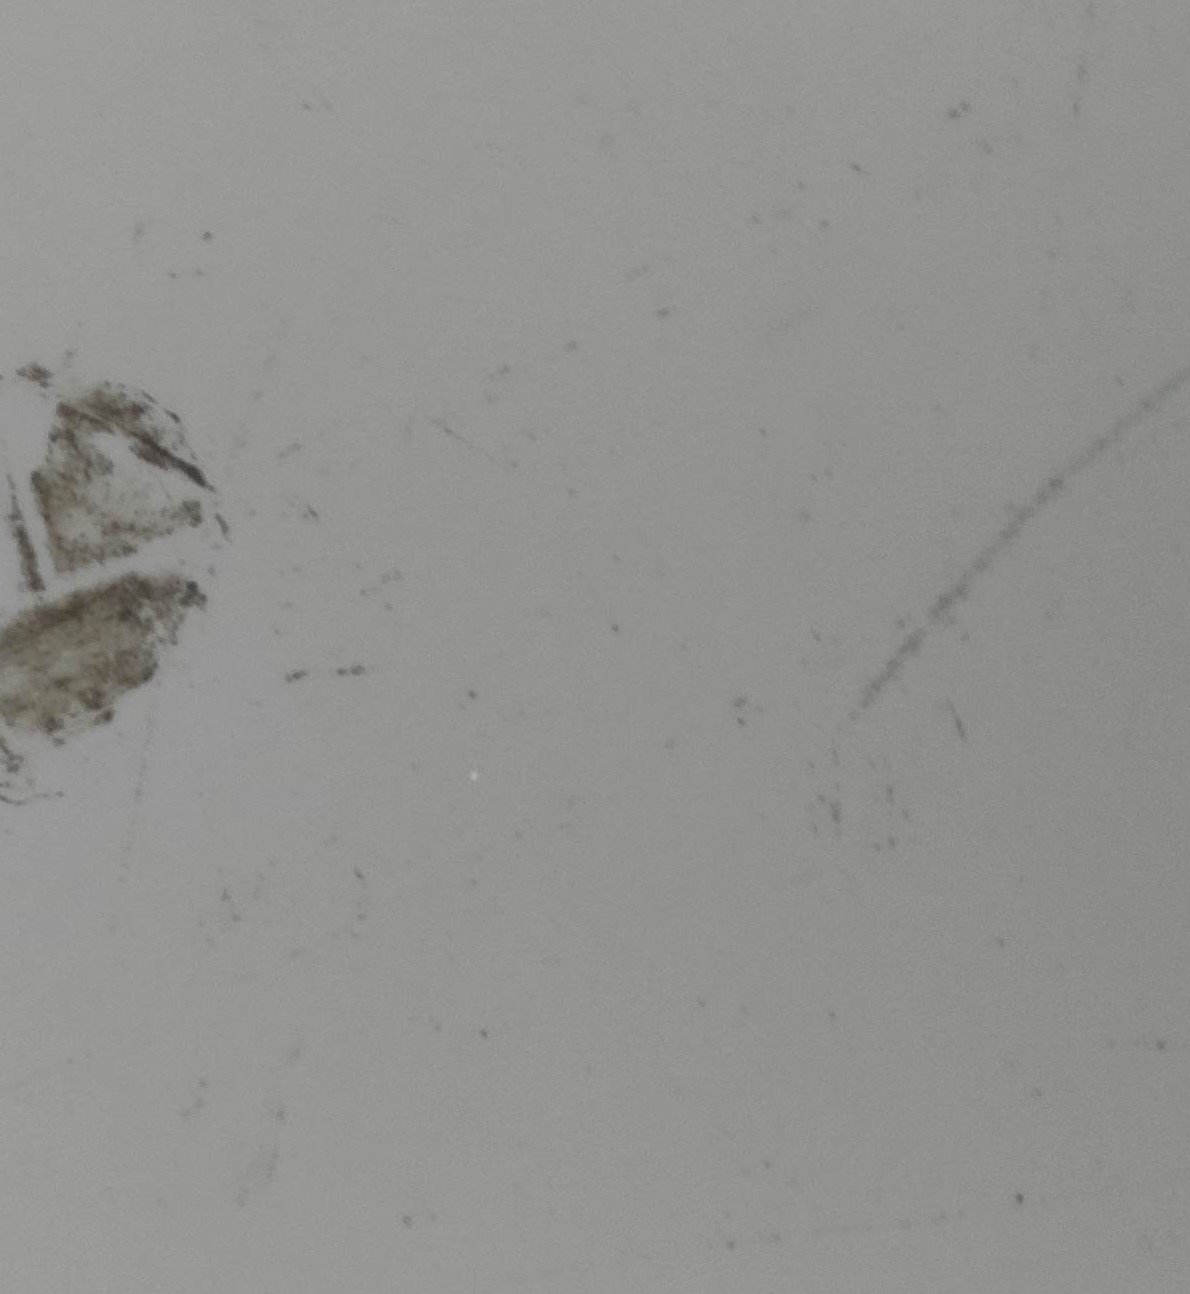grey spot: (1, 356, 215, 782)
